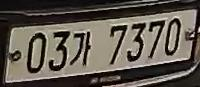0: (25, 28, 48, 76), (166, 16, 182, 57)
3: (48, 29, 70, 71), (128, 21, 148, 63)
7: (106, 22, 127, 65), (147, 17, 165, 57)
가: (71, 28, 94, 69)
